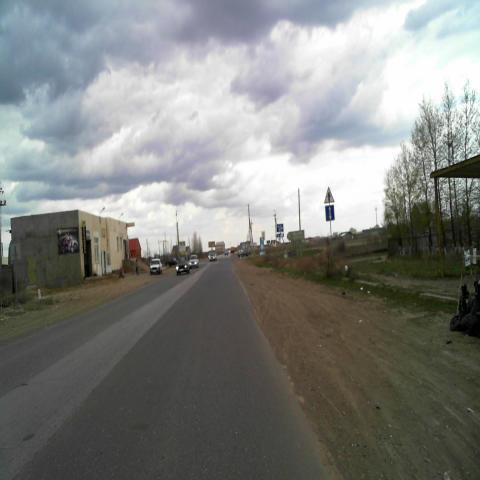2_3: (324, 186, 334, 204)
5_8: (326, 205, 334, 221)
